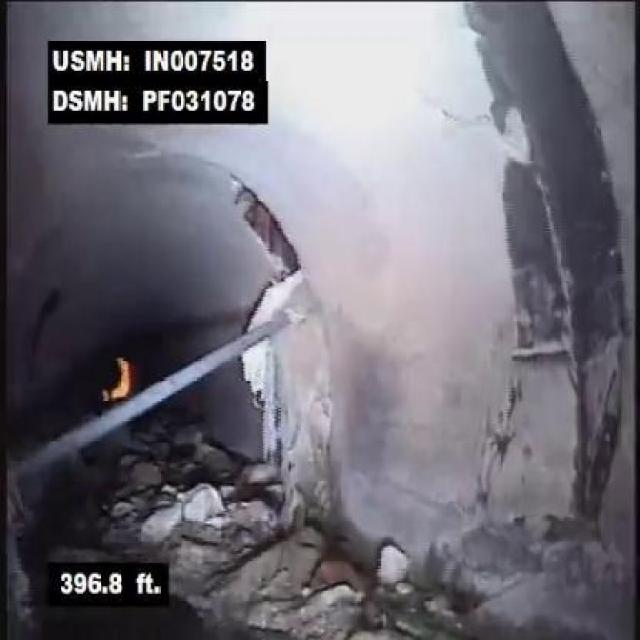Debris: (98, 480, 314, 560), (309, 538, 426, 638)
Utility intrusion: (26, 300, 303, 477)
